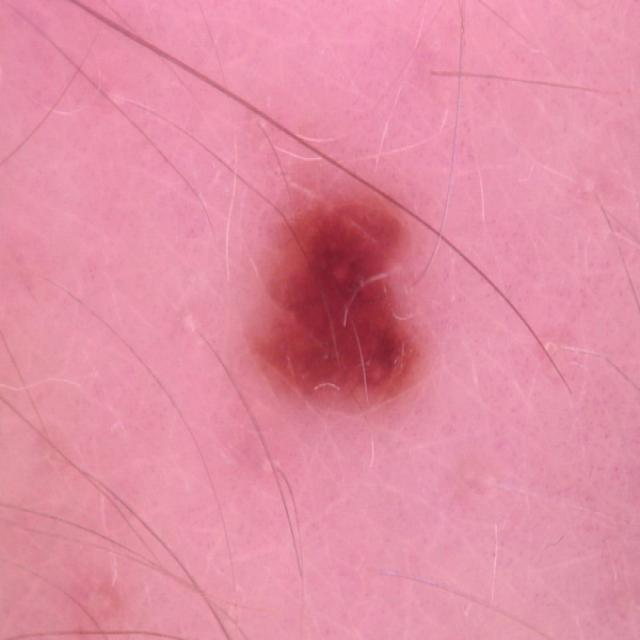NV: (246, 189, 437, 420)
